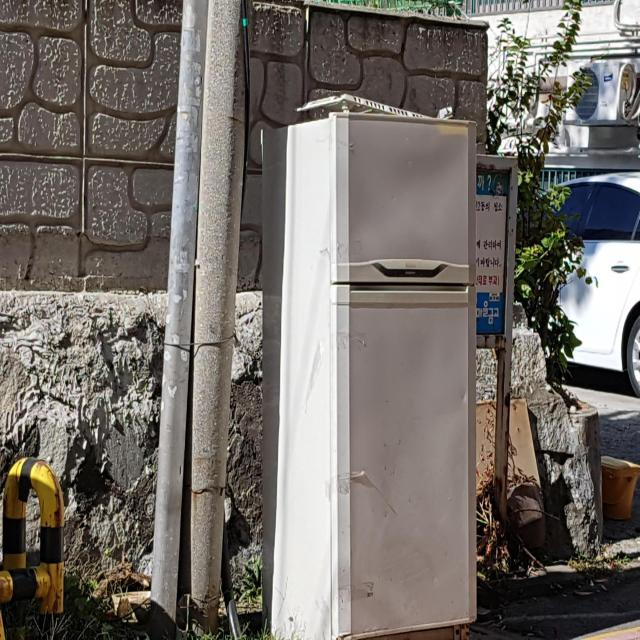refrigerator: (258, 87, 478, 640)
